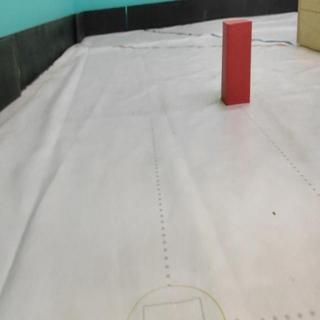redbox: (219, 18, 253, 105)
